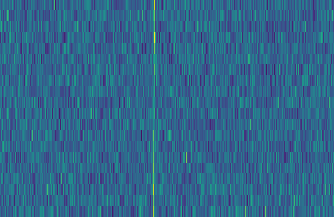signal: (149, 0, 159, 217)
